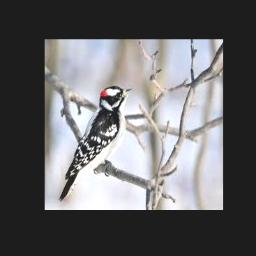Woodpecker: (59, 86, 134, 202)
